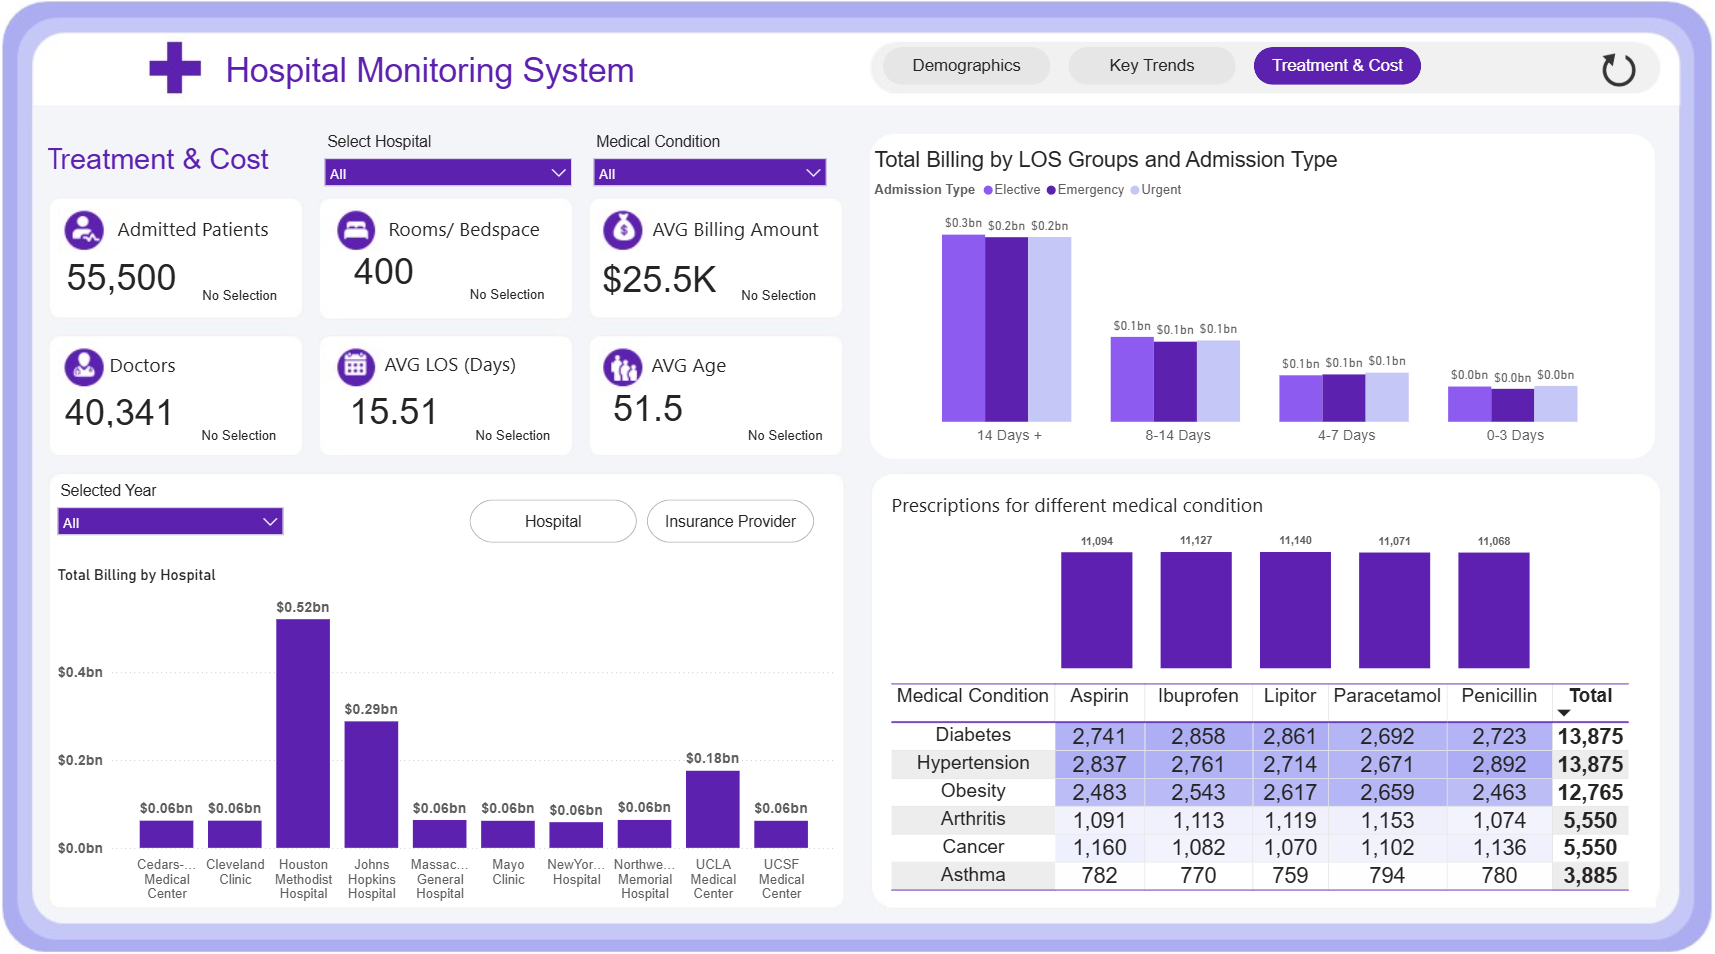

The page's visual inventory and layout, read from the dashboard file:
{"tool":"powerbi","page":{"name":"Treatment & Cost","canvas":[1920,1080],"ordinal":2},"visuals":[{"type":"card","fields":{"Values":["_DaxMeasures.Admitted Patients"]},"box":[55.7,281.4,174.3,68.6],"z":0},{"type":"textbox","box":[132.9,242.9,194.3,38.6],"z":1000},{"type":"textbox","box":[434.3,242.9,194.3,38.6],"z":2000},{"type":"textbox","box":[727.5,243.4,203.5,38.6],"z":3000},{"type":"textbox","box":[124.3,394.3,202.9,38.6],"z":4000},{"type":"textbox","box":[429.6,393.7,218.1,38.6],"z":5000},{"type":"textbox","box":[727.1,394.3,202.9,38.6],"z":6000},{"type":"slicer","fields":{"Values":["Dim_Date.Year"]},"box":[66.5,544,260.7,73.2],"z":7000},{"type":"slicer","fields":{"Values":["DimMedicalCondition.Medical Condition"]},"box":[662.4,156.9,268.7,73.2],"z":8000},{"type":"card","fields":{"Values":["_DaxMeasures.admission YoY"]},"box":[204.8,315.4,139.3,46.4],"z":9000},{"type":"card","fields":{"Values":["_DaxMeasures.Billing YoY"]},"box":[800.2,316.8,146.1,45.1],"z":10000},{"type":"card","fields":{"Values":["_DaxMeasures.AVG Billing Amount"]},"box":[652.7,279.9,176.2,75.1],"z":11000},{"type":"card","fields":{"Values":["_DaxMeasures.Room"]},"box":[356.4,279.9,155.7,57.4],"z":12000},{"type":"card","fields":{"Values":["_DaxMeasures.Room YoY"]},"box":[495.7,315.4,151.6,43.7],"z":13000},{"type":"card","fields":{"Values":["_DaxMeasures.Doctor"]},"box":[66.9,439.7,148.8,49.2],"z":14000},{"type":"card","fields":{"Values":["_DaxMeasures.Doctor YoY"]},"box":[202.1,479.3,142,30],"z":15000},{"type":"card","fields":{"Values":["_DaxMeasures.AVG LOS(Days)"]},"box":[363.2,434.3,165.2,60.1],"z":16000},{"type":"card","fields":{"Values":["_DaxMeasures.AVG Age"]},"box":[662.3,434.3,131.1,53.3],"z":17000},{"type":"card","fields":{"Values":["_DaxMeasures.AVG LOS (Days) YoY"]},"box":[512.1,479.3,131.1,30],"z":18000},{"type":"card","fields":{"Values":["_DaxMeasures.AVG age YoY"]},"box":[819.3,479.3,122.9,30],"z":19000},{"type":"slicer","fields":{"Values":["HealthStateData.Hospital"]},"box":[363.1,156.9,284.6,73.2],"z":22000},{"type":"shape","box":[974,157.7,872.3,361],"z":23000},{"type":"clusteredColumnChart","fields":{"Category":["HealthStateData.Hospital"],"Y":["_DaxMeasures.Total Billing"]},"box":[66.3,638,875.3,380.2],"z":24000},{"type":"advancedSlicerVisual","fields":{"Values":["Billing.Billing"]},"box":[524.6,558.5,394.9,58.9],"z":25000},{"type":"clusteredColumnChart","fields":{"Category":["HealthStateData.LOS Groups"],"Y":["_DaxMeasures.Total Billing"],"Series":["HealthStateData.Admission Type"]},"box":[974,172.4,872.3,336],"z":26000},{"type":"pivotTable","fields":{"Values":["_DaxMeasures.Admitted Patients"],"Rows":["DimMedicalCondition.Medical Condition"],"Columns":["HealthStateData.Medication"]},"box":[993,763.5,853.5,253.5],"z":27000},{"type":"clusteredColumnChart","fields":{"Y":["_DaxMeasures.Admitted Patients"],"Category":["HealthStateData.Medication"]},"box":[1182,588,534,169.5],"z":28000},{"type":"textbox","box":[993,550.5,687,37.5],"z":29000},{"type":"textbox","box":[55.7,157.1,275.7,57.1],"z":30000},{"type":"pageNavigator","box":[988.6,61.4,600,42.9],"z":31000},{"type":"image","box":[1772.9,62.9,67.1,47.1],"z":32000},{"type":"textbox","box":[252.9,61.4,488.6,57.1],"z":33000}]}

Visuals, with their boxes in screenshot pixels (x1, y1, x2, y2), scaled from the page's 1920x1080 canvas onto the 1715x954 screenshot:
card - _DaxMeasures.Admitted Patients: {"left": 50, "top": 249, "right": 205, "bottom": 309}
textbox: {"left": 119, "top": 215, "right": 292, "bottom": 249}
textbox: {"left": 388, "top": 215, "right": 561, "bottom": 249}
textbox: {"left": 650, "top": 215, "right": 832, "bottom": 249}
textbox: {"left": 111, "top": 348, "right": 292, "bottom": 382}
textbox: {"left": 384, "top": 348, "right": 579, "bottom": 382}
textbox: {"left": 649, "top": 348, "right": 831, "bottom": 382}
slicer - Dim_Date.Year: {"left": 59, "top": 481, "right": 292, "bottom": 545}
slicer - DimMedicalCondition.Medical Condition: {"left": 592, "top": 139, "right": 832, "bottom": 203}
card - _DaxMeasures.admission YoY: {"left": 183, "top": 279, "right": 307, "bottom": 320}
card - _DaxMeasures.Billing YoY: {"left": 715, "top": 280, "right": 845, "bottom": 320}
card - _DaxMeasures.AVG Billing Amount: {"left": 583, "top": 247, "right": 740, "bottom": 314}
card - _DaxMeasures.Room: {"left": 318, "top": 247, "right": 457, "bottom": 298}
card - _DaxMeasures.Room YoY: {"left": 443, "top": 279, "right": 578, "bottom": 317}
card - _DaxMeasures.Doctor: {"left": 60, "top": 388, "right": 193, "bottom": 432}
card - _DaxMeasures.Doctor YoY: {"left": 181, "top": 423, "right": 307, "bottom": 450}
card - _DaxMeasures.AVG LOS(Days): {"left": 324, "top": 384, "right": 472, "bottom": 437}
card - _DaxMeasures.AVG Age: {"left": 592, "top": 384, "right": 709, "bottom": 431}
card - _DaxMeasures.AVG LOS (Days) YoY: {"left": 457, "top": 423, "right": 575, "bottom": 450}
card - _DaxMeasures.AVG age YoY: {"left": 732, "top": 423, "right": 842, "bottom": 450}
slicer - HealthStateData.Hospital: {"left": 324, "top": 139, "right": 579, "bottom": 203}
shape: {"left": 870, "top": 139, "right": 1649, "bottom": 458}
clusteredColumnChart - HealthStateData.Hospital x _DaxMeasures.Total Billing: {"left": 59, "top": 564, "right": 841, "bottom": 899}
advancedSlicerVisual - Billing.Billing: {"left": 469, "top": 493, "right": 821, "bottom": 545}
clusteredColumnChart - HealthStateData.LOS Groups x _DaxMeasures.Total Billing: {"left": 870, "top": 152, "right": 1649, "bottom": 449}
pivotTable - _DaxMeasures.Admitted Patients x DimMedicalCondition.Medical Condition: {"left": 887, "top": 674, "right": 1649, "bottom": 898}
clusteredColumnChart - _DaxMeasures.Admitted Patients x HealthStateData.Medication: {"left": 1056, "top": 519, "right": 1533, "bottom": 669}
textbox: {"left": 887, "top": 486, "right": 1501, "bottom": 519}
textbox: {"left": 50, "top": 139, "right": 296, "bottom": 189}
pageNavigator: {"left": 883, "top": 54, "right": 1419, "bottom": 92}
image: {"left": 1584, "top": 56, "right": 1644, "bottom": 97}
textbox: {"left": 226, "top": 54, "right": 662, "bottom": 105}
